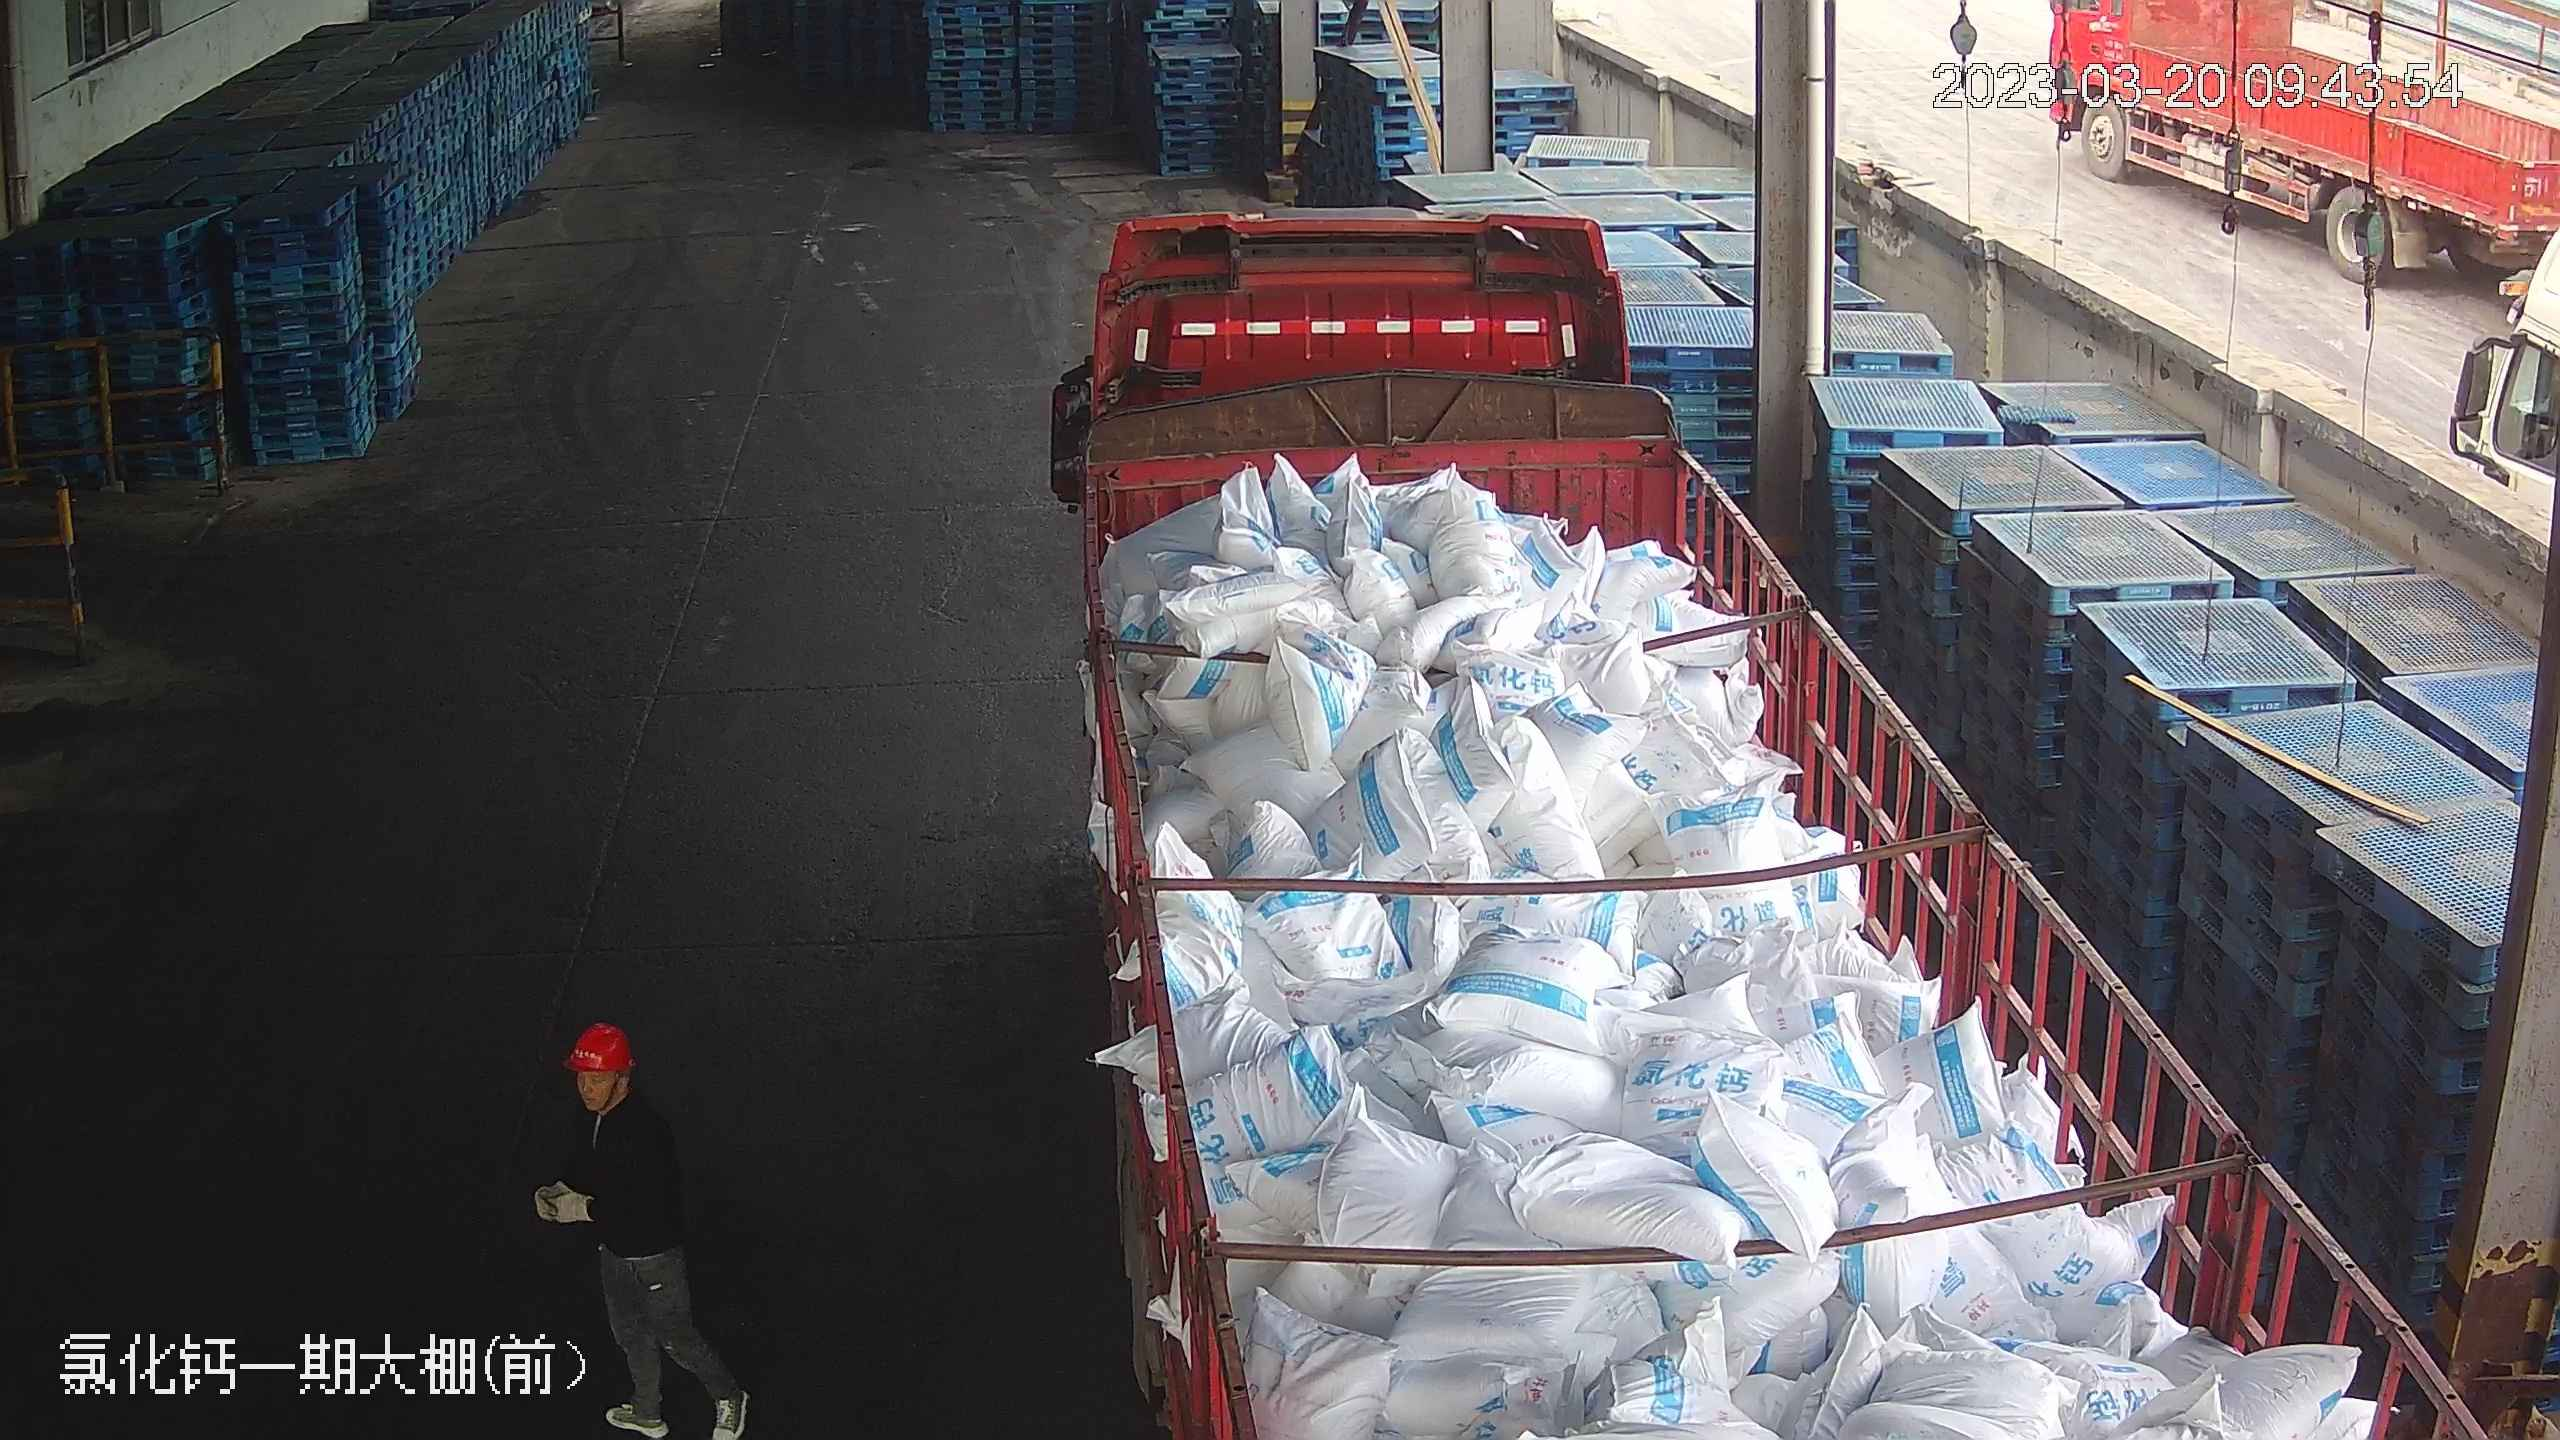head: (554, 1021, 680, 1161)
helmet: (563, 1019, 637, 1070)
people: (528, 1019, 733, 1433)
truck: (1040, 184, 2408, 1440)
